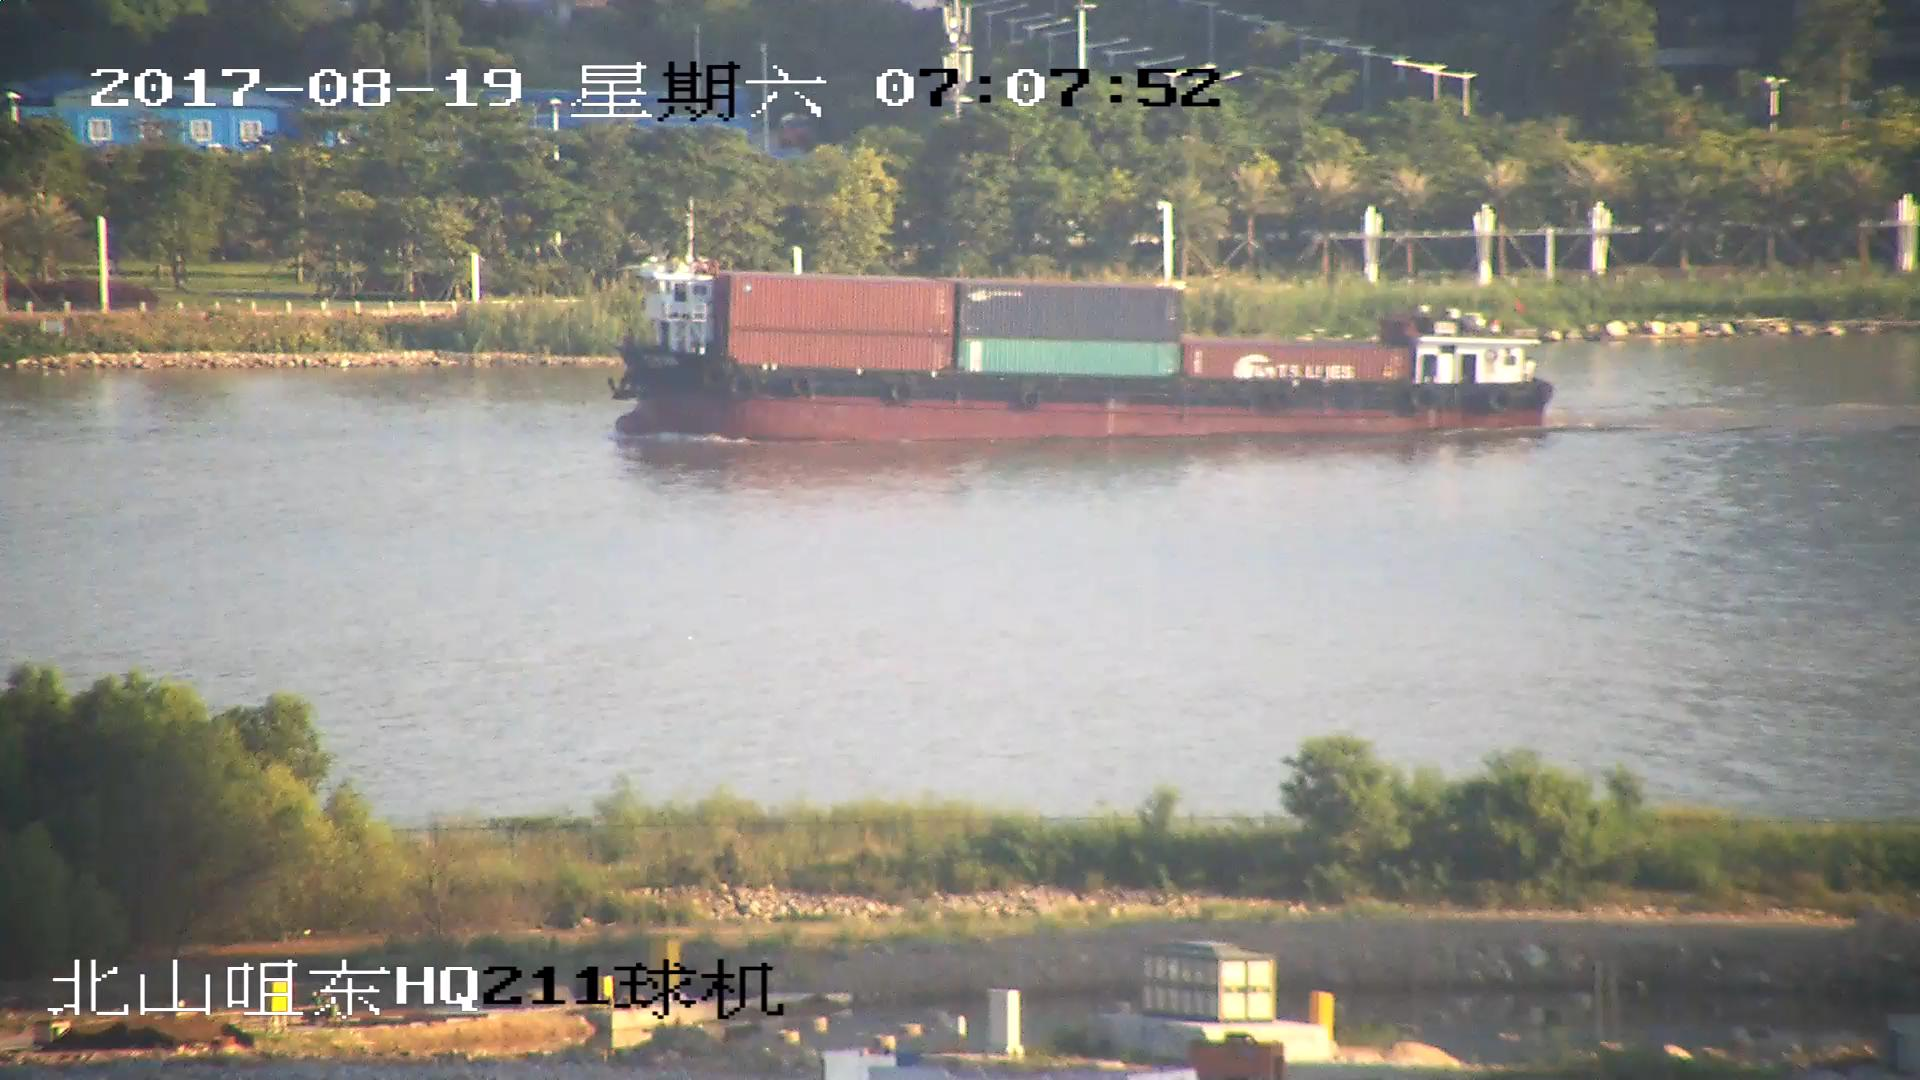container ship: (608, 241, 1554, 448)
